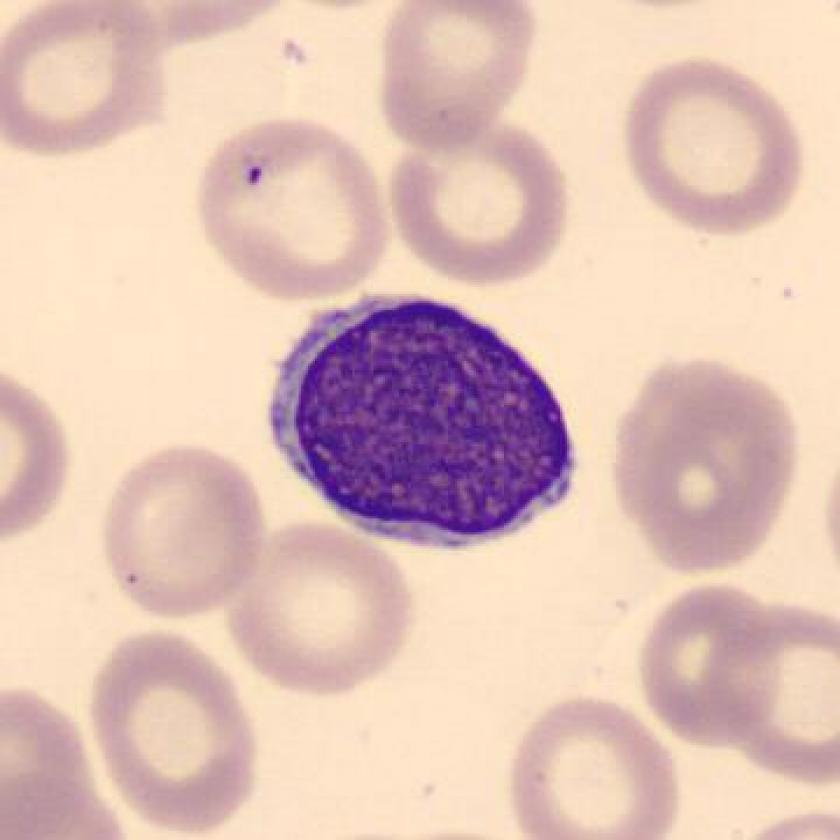lymphocyte: (260, 281, 589, 566)
